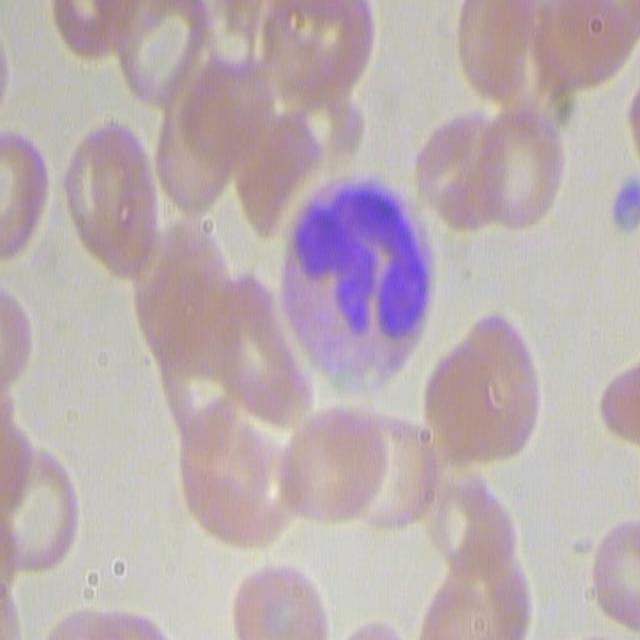RBC: (275, 391, 442, 537), (413, 308, 542, 482), (418, 99, 566, 242), (243, 0, 368, 162), (452, 2, 576, 134), (143, 71, 265, 203), (64, 122, 160, 284), (132, 242, 238, 358), (185, 410, 274, 546), (104, 1, 206, 110), (0, 448, 80, 579), (225, 554, 334, 638), (435, 552, 539, 640), (0, 126, 49, 268), (48, 0, 143, 60), (590, 517, 640, 630), (603, 363, 640, 445)
WBC: (277, 172, 442, 381)
platelets: (615, 175, 640, 245)
